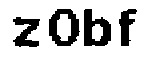0: (47, 5, 80, 49)
b: (82, 5, 112, 49)
f: (116, 3, 141, 48)
z: (11, 15, 43, 51)
